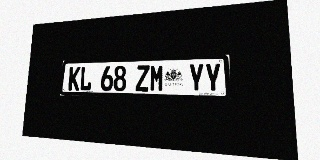6: (100, 66, 114, 91)
8: (113, 65, 127, 91)
K: (68, 67, 81, 91)
L: (79, 66, 92, 91)
M: (149, 64, 164, 92)
Y: (204, 63, 221, 92), (188, 63, 204, 92)
Z: (135, 65, 150, 91)
